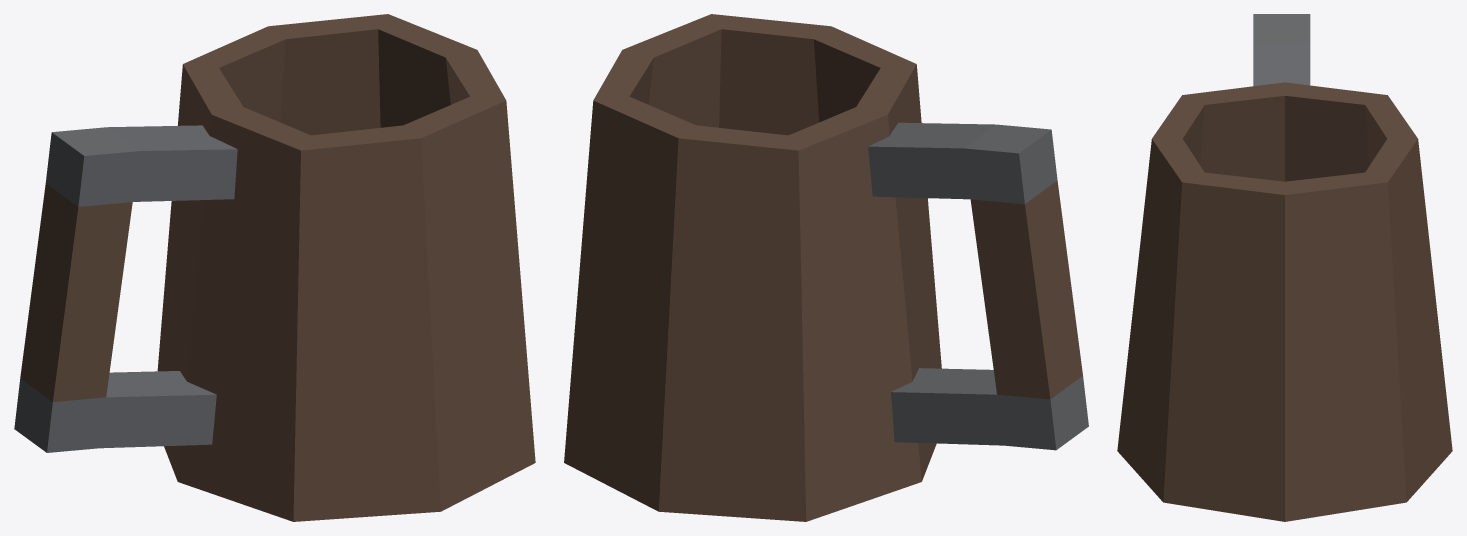
File: mug01.fbx
3 renders of one model, left to right at view 1: azimuth 30°, elevation 25°; view 2: azimuth 150°, elevation 25°; view 3: azimuth 270°, elevation 25°, orthographic. The views are drawn at different scales.
Parts seen in each view (by area): view 1: mug01; view 2: mug01; view 3: mug01.
Boxes of the visible parts, x1,y1,x2,y2 form: mug01: (14, 14, 535, 521); mug01: (564, 14, 1088, 521); mug01: (1117, 14, 1452, 521).
Bounding box in the file's own units: 16.54 × 12 × 11.44.
Materials: 1 (1 with a texture image).
